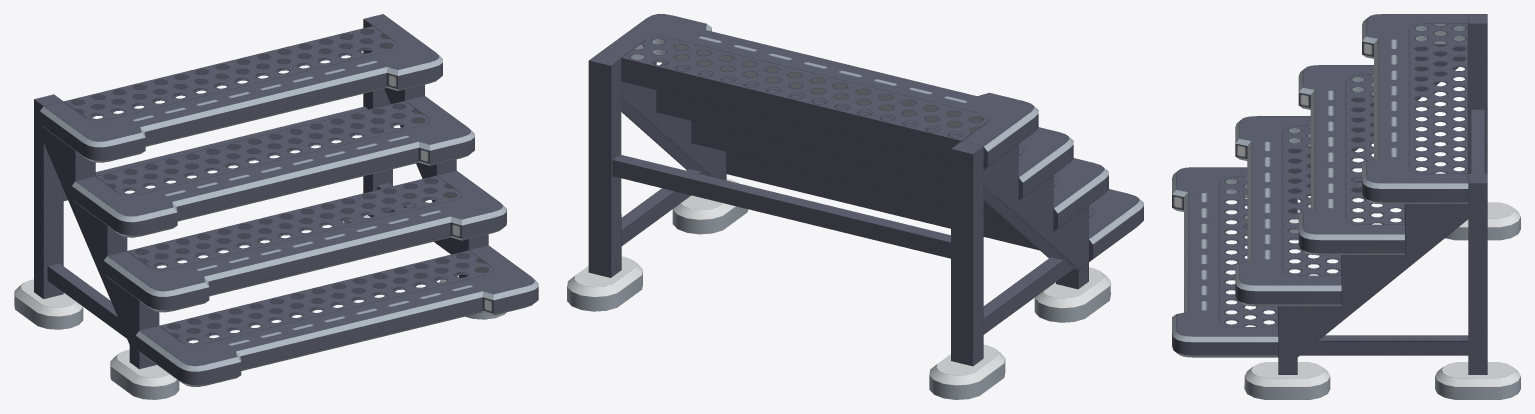
The model's file is Stair_Small_Ext_01.FBX.
The picture shows the model from 3 angles, left to right: view 1: azimuth 30°, elevation 25°; view 2: azimuth 150°, elevation 25°; view 3: azimuth 270°, elevation 25°; orthographic projection. The views are drawn at different scales.
Parts seen in each view (by area): view 1: Stair_Small_Ext_01; view 2: Stair_Small_Ext_01; view 3: Stair_Small_Ext_01.
Part boxes in pixels (x1=…): Stair_Small_Ext_01: x1=14, y1=14, x2=538, y2=399; Stair_Small_Ext_01: x1=567, y1=14, x2=1143, y2=399; Stair_Small_Ext_01: x1=1172, y1=14, x2=1520, y2=399.
Size of the model in its own units: 3.02 by 1.64 by 2.46.
